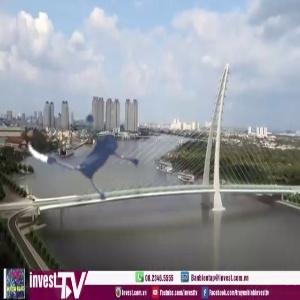drone: (26, 81, 159, 214)
